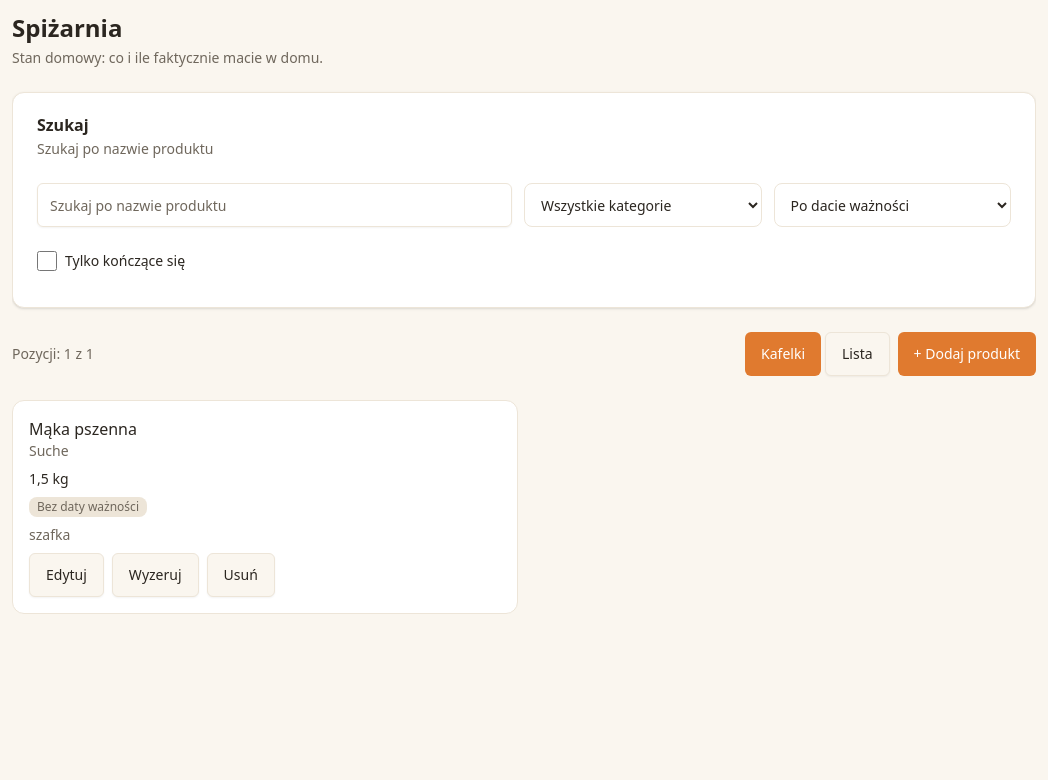
Scenario: SpizarniaPage › przełącznik widoku podmienia listę na wiersze
Check: the list item with test id "pantry-card-1" is shown, box [12,400,518,614]
Click the button with test id "pantry-view-list" at (857, 354), box [825,332,890,376]
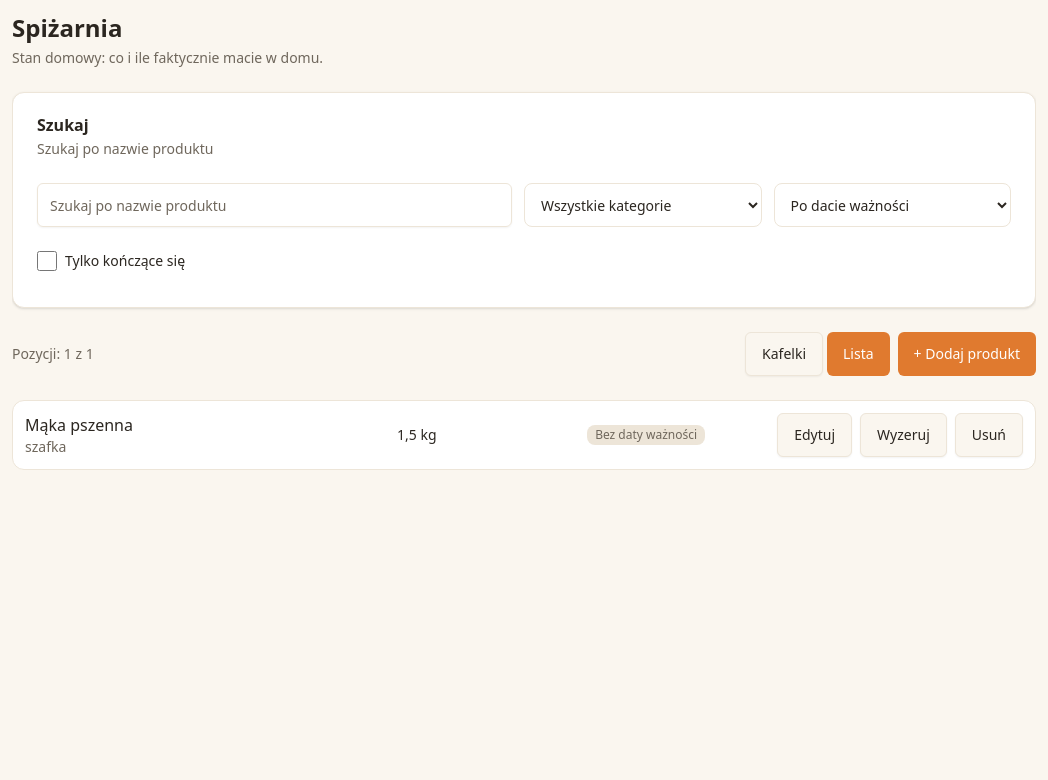
Check: the list item with test id "pantry-row-1" is shown, box [12,400,1036,470]
